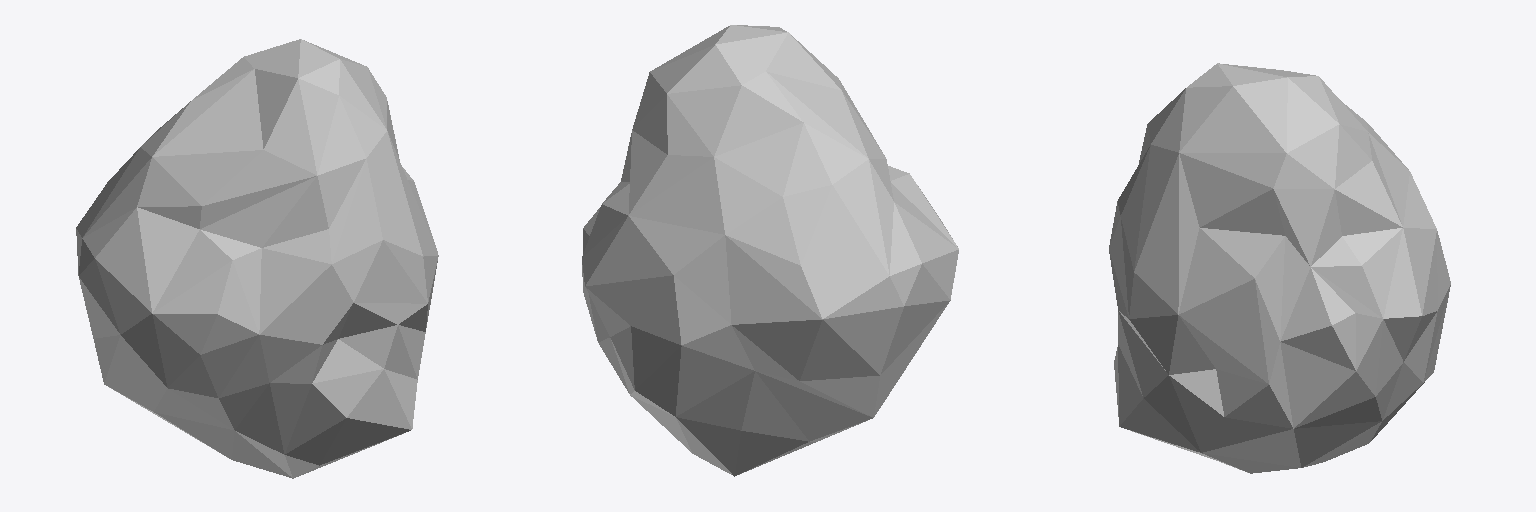
File: AsteroidD.obj
3 renders of one model, left to right at view 1: azimuth 30°, elevation 25°; view 2: azimuth 150°, elevation 25°; view 3: azimuth 270°, elevation 25°, orthographic.
Parts seen in each view (by area): view 1: AsteroidD; view 2: AsteroidD; view 3: AsteroidD.
Boxes of the visible parts, x1,y1,x2,y2 form: AsteroidD: [76, 39, 438, 478]; AsteroidD: [582, 25, 958, 476]; AsteroidD: [1109, 63, 1450, 473].
Bounding box in the file's own units: 2.44 × 2.97 × 2.27.